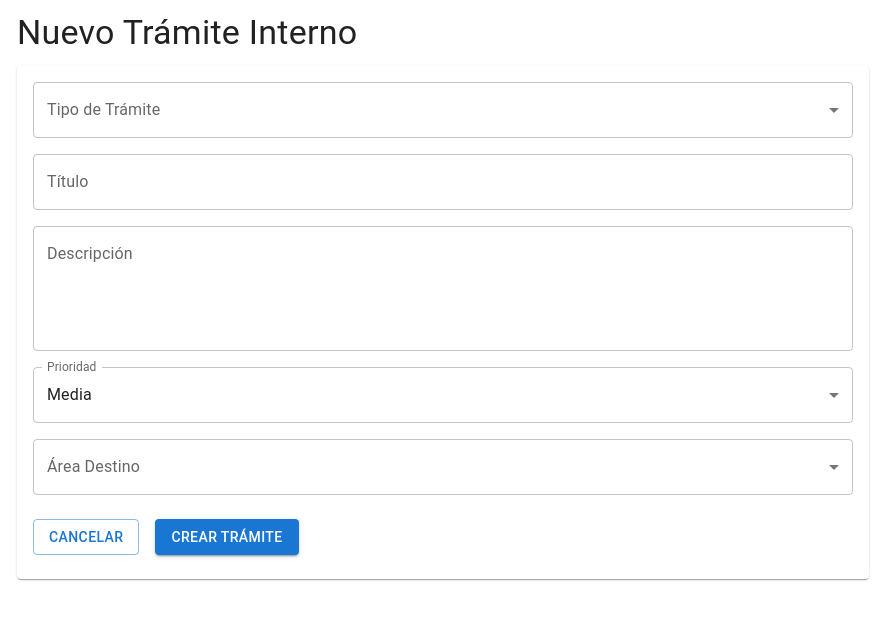
Test case: CrearTramiteInternoPage › shows validation errors for required fields
Click the button "Crear Trámite": (227, 537) [155,519,298,555]
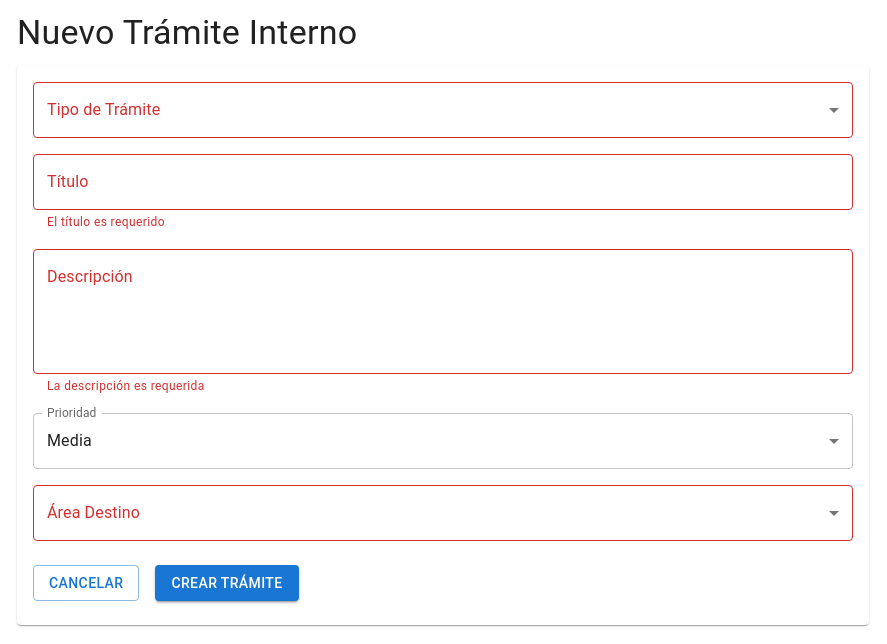
Now the text "El título es requerido" is shown, box [47,215,165,229]
Now the text "La descripción es requerida" is shown, box [47,379,205,393]
